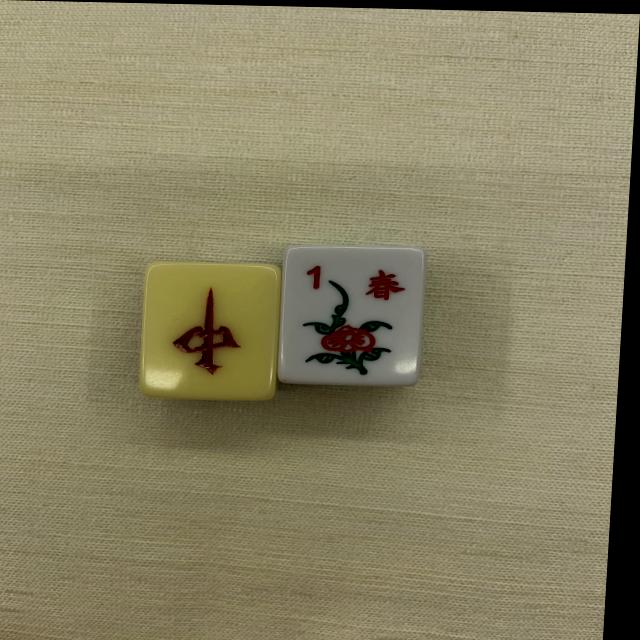ff1: (275, 244, 424, 385)
zhong: (144, 266, 264, 397)
